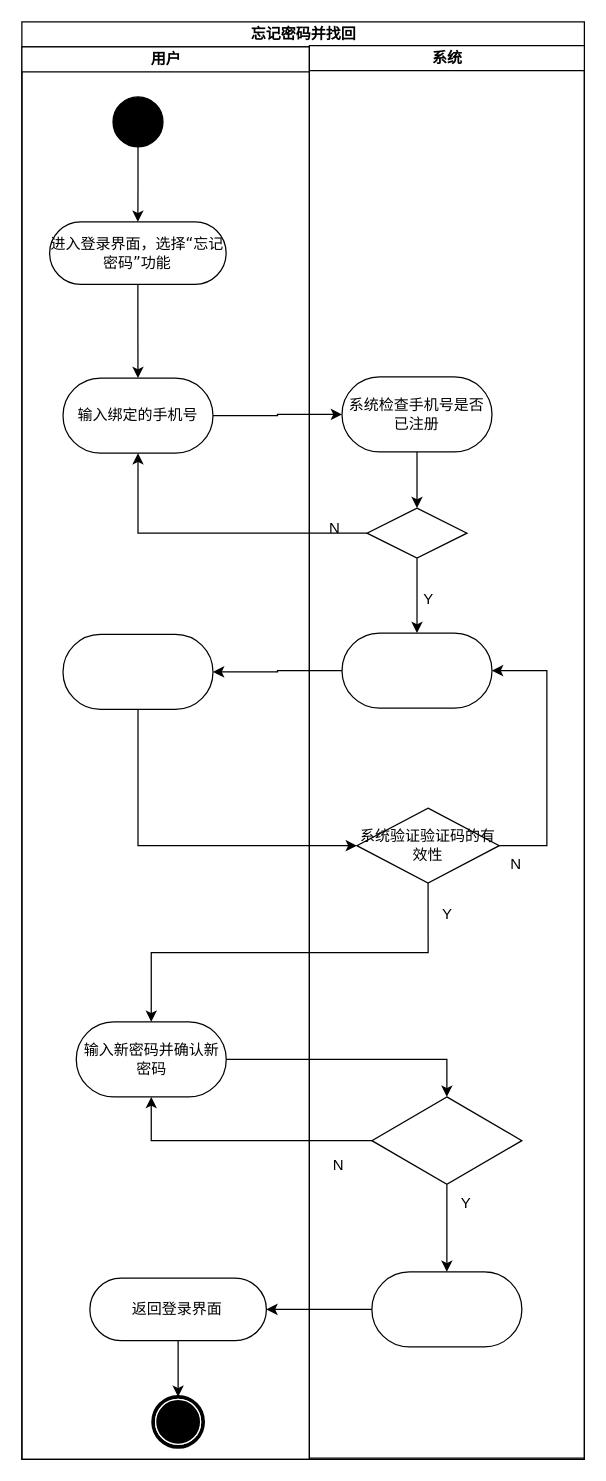
The diagram is 606 pixels wide and 1481 high, and some of its shapes have lost their labels. The centre of each missing label's shape, as x and y in pixels:
更新密码: pixel 446 1309
用户输入验证码: pixel 137 671
系统发送验证码: pixel 416 670
系统验证两次密码是否一致: pixel 446 1140
